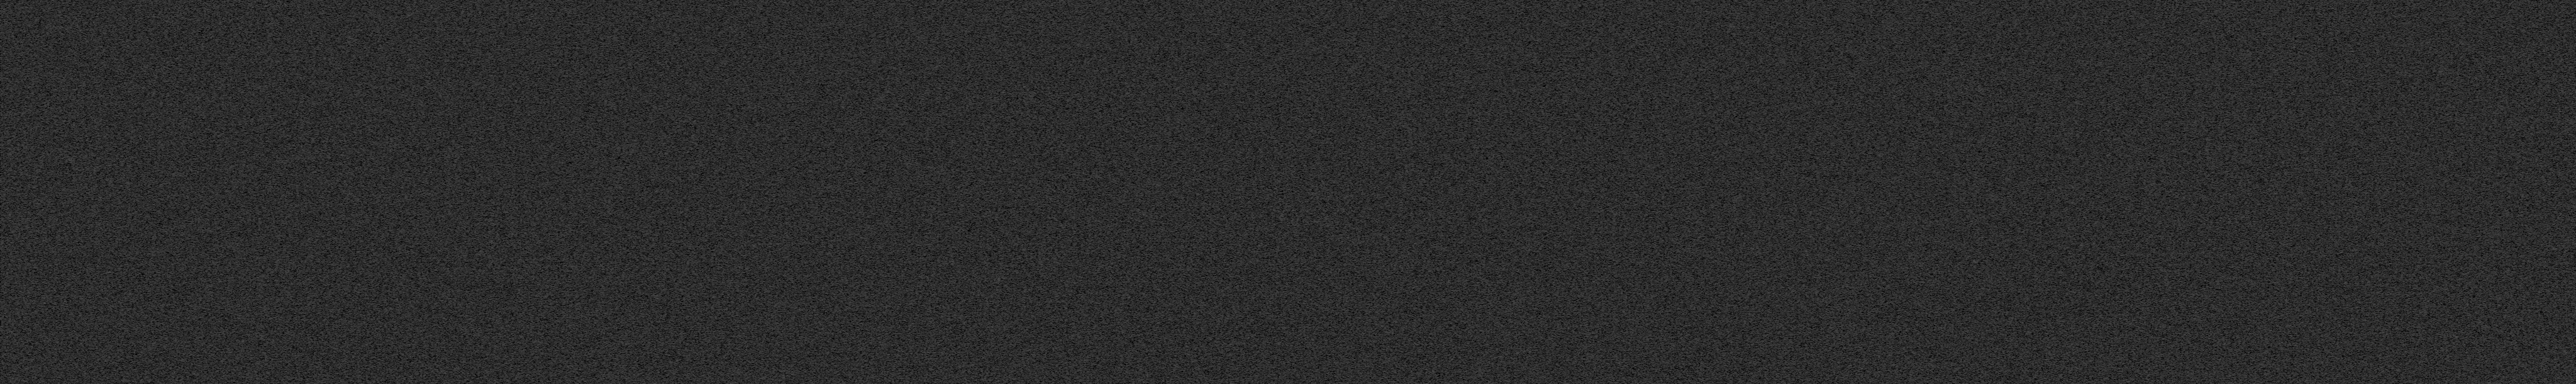wv_am: (1107, 0, 1119, 384)
wv_cw: (853, 0, 864, 384)
wv_lsb: (1035, 61, 1040, 384), (1037, 3, 1040, 61)
